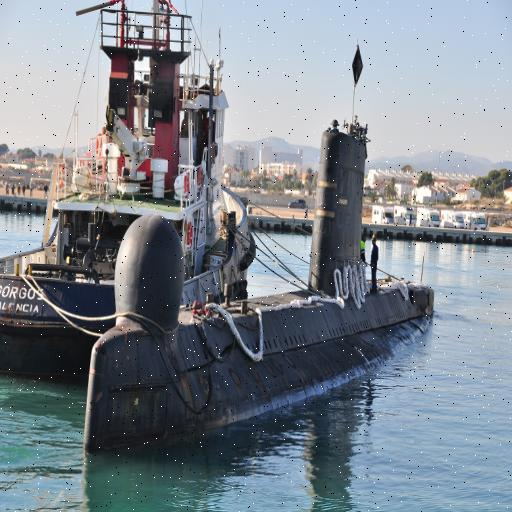submarine: (86, 134, 438, 448)
